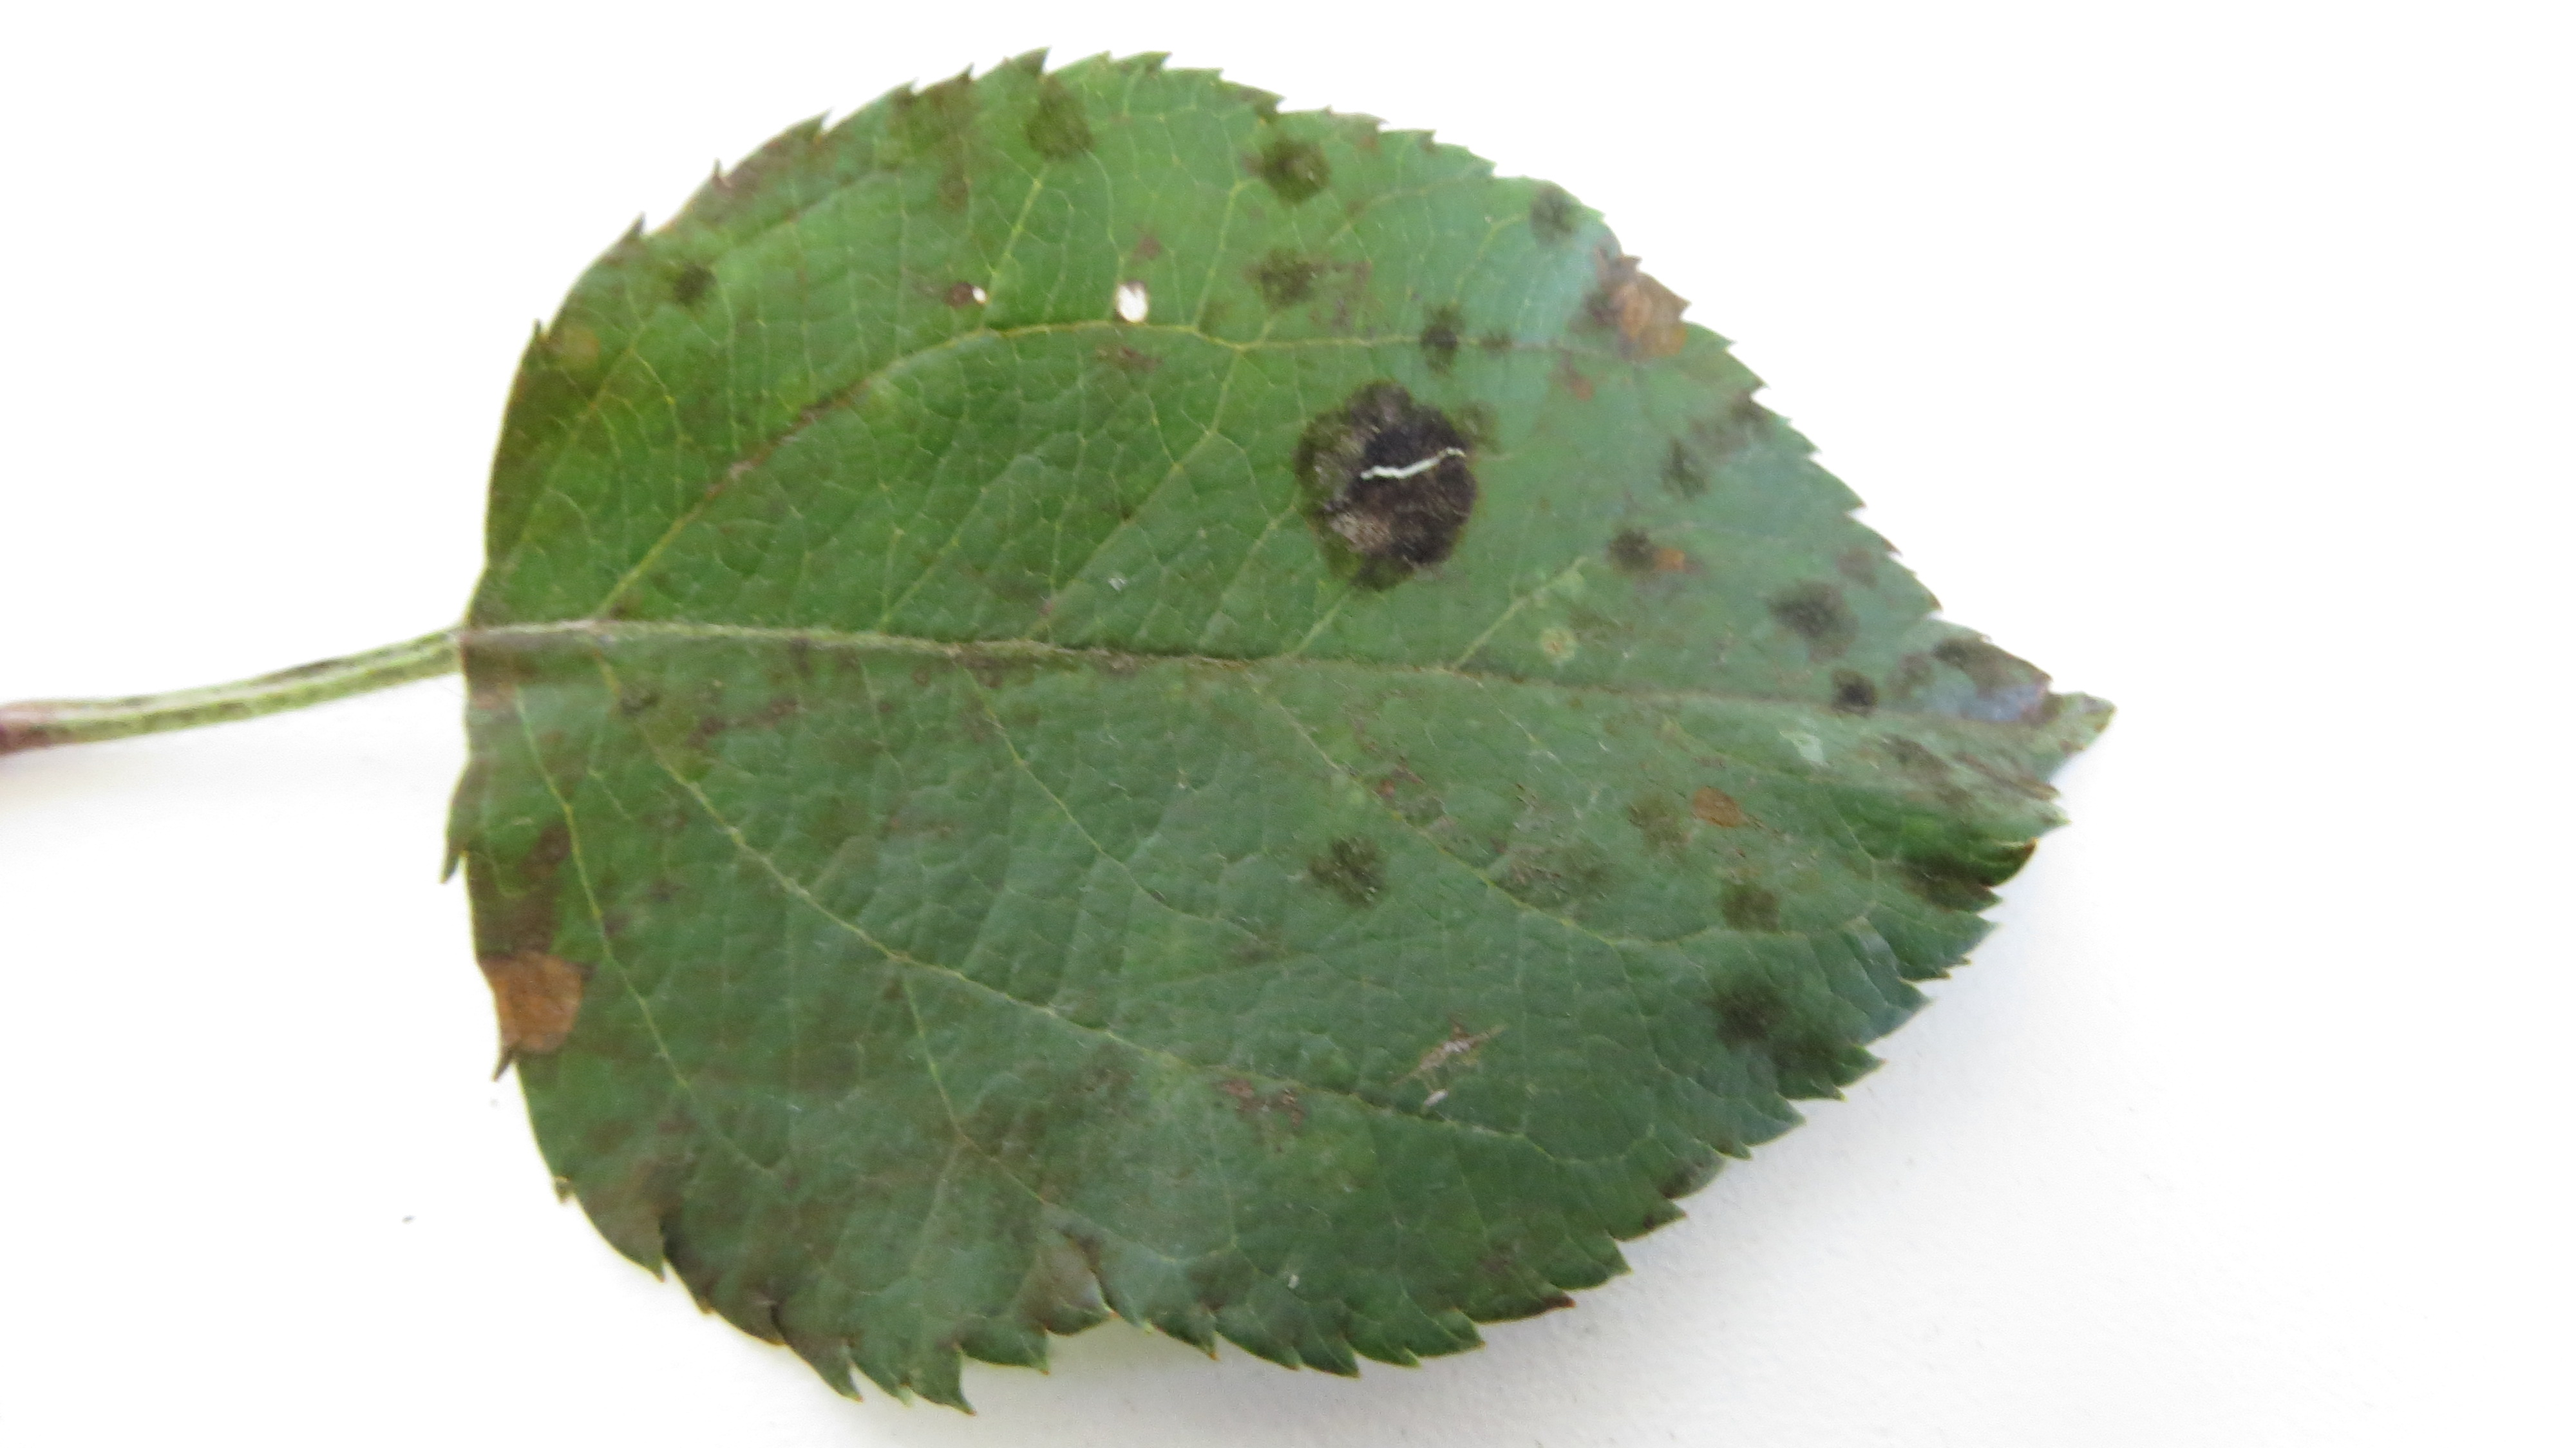sarna: (605, 1112, 844, 1359), (947, 1037, 1169, 1253), (1295, 372, 1472, 598), (448, 814, 591, 1082), (784, 954, 932, 1117), (916, 623, 1053, 756), (1481, 774, 1594, 912), (908, 65, 994, 230), (612, 669, 741, 779), (1571, 244, 1681, 365), (782, 788, 947, 867), (1407, 997, 1500, 1124), (1884, 832, 2019, 919), (1928, 611, 2038, 717), (1215, 1055, 1346, 1142), (1755, 556, 1856, 666), (731, 628, 824, 745), (823, 637, 909, 763), (1679, 354, 1778, 464), (589, 857, 702, 952), (1016, 57, 1100, 172), (1019, 1227, 1109, 1335), (1605, 781, 1706, 876), (1343, 720, 1438, 821), (1594, 513, 1706, 598), (1244, 234, 1345, 326), (773, 361, 893, 437), (1507, 163, 1598, 262), (1302, 818, 1392, 913), (1238, 122, 1338, 209), (1863, 738, 1974, 814), (1690, 958, 1785, 1046), (646, 359, 741, 443), (648, 248, 734, 336), (970, 549, 1062, 628), (1065, 628, 1168, 689), (1718, 867, 1794, 945), (1806, 657, 1890, 728), (1656, 435, 1729, 513), (1077, 326, 1168, 388), (1407, 292, 1472, 372), (936, 264, 994, 326), (1472, 313, 1529, 377)
